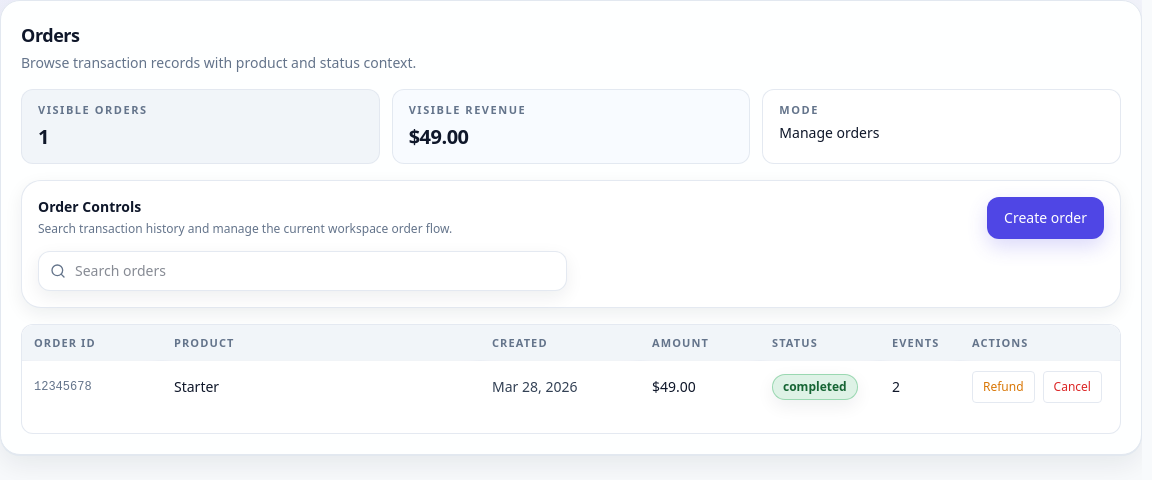
AdminOrdersPage › applies search after debounce and shows the filtered empty state
Step 1. Type "missing" into the field with placeholder "Search orders" → [302, 270], box [38, 250, 567, 290]
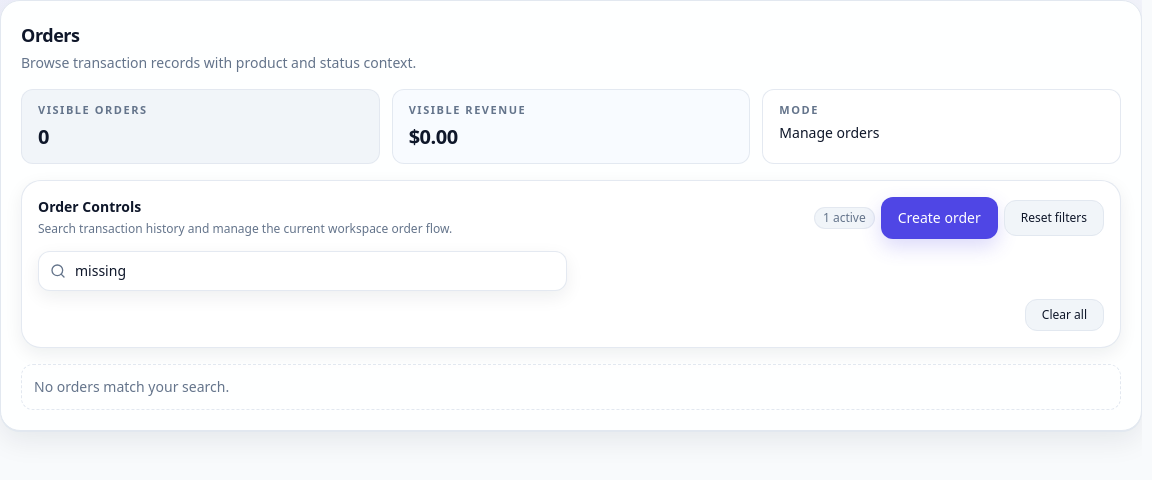
Result: the text "No orders match your search." is shown at [34, 376, 229, 396]
